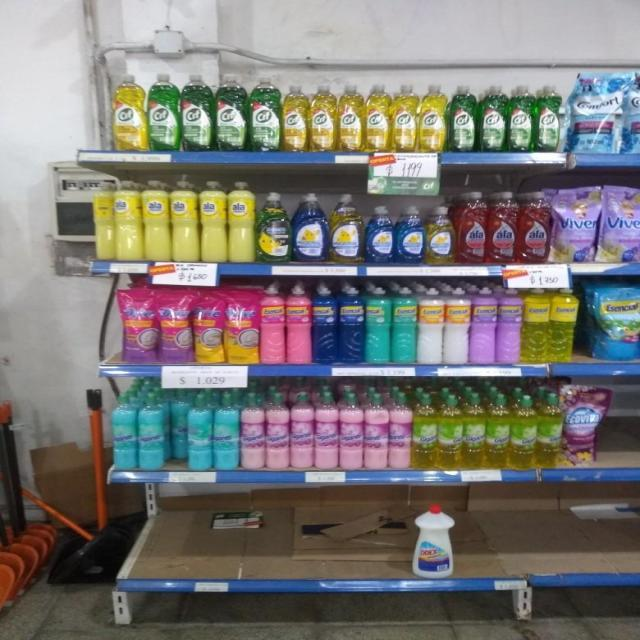ala_conc_rojo: (457, 190, 487, 265), (520, 190, 550, 265), (488, 190, 518, 264)
ala_crem_amarillo: (200, 180, 227, 263), (228, 181, 255, 263), (171, 180, 198, 262), (143, 180, 170, 262), (115, 180, 142, 261), (91, 181, 114, 261)
cif_conc_bot_amarilla: (110, 74, 146, 152), (418, 83, 446, 153), (391, 83, 418, 153), (309, 84, 336, 152), (282, 83, 308, 152), (365, 83, 390, 153), (338, 83, 363, 152)
cif_conc_botella_verde: (148, 72, 180, 152), (248, 75, 280, 152), (182, 74, 214, 151), (216, 74, 247, 152), (449, 84, 477, 152), (478, 84, 506, 152), (536, 83, 562, 153), (508, 84, 534, 153)
drive: (118, 287, 157, 364), (158, 287, 192, 365), (226, 288, 258, 364), (194, 288, 224, 364)
esencial: (286, 284, 312, 364), (365, 286, 391, 364), (260, 285, 285, 364), (313, 285, 338, 364), (339, 286, 364, 364), (392, 286, 416, 364)
gigante: (137, 388, 168, 470), (184, 390, 212, 470), (110, 392, 137, 469)
magistral_con_amarillo: (330, 193, 363, 264), (426, 205, 455, 265)
magistral_con_azul: (294, 192, 327, 263), (365, 205, 395, 265), (396, 205, 425, 265)
